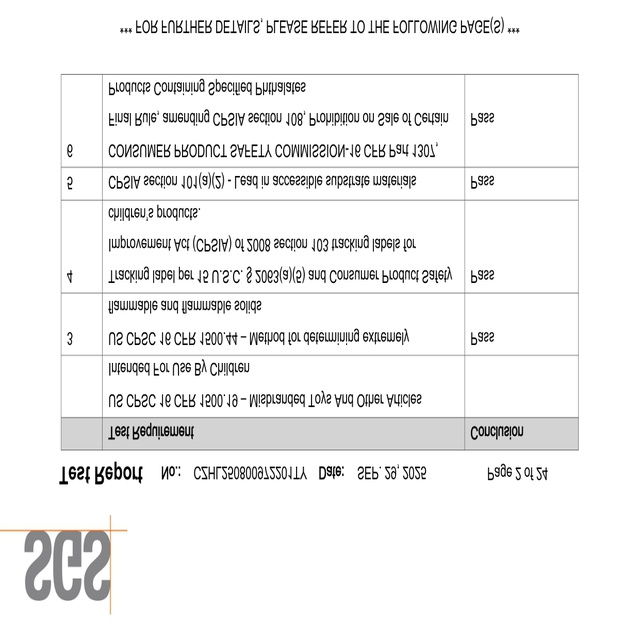sgs: (24, 530, 110, 602)
